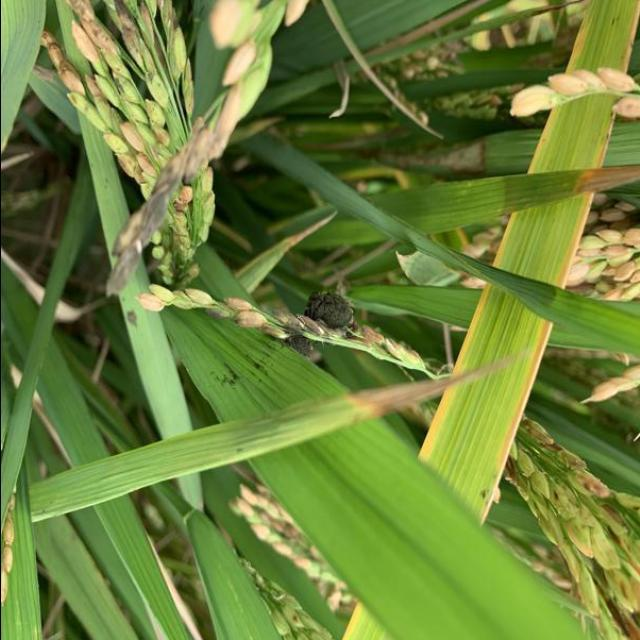Leaf_Scald: (289, 290, 354, 360)
